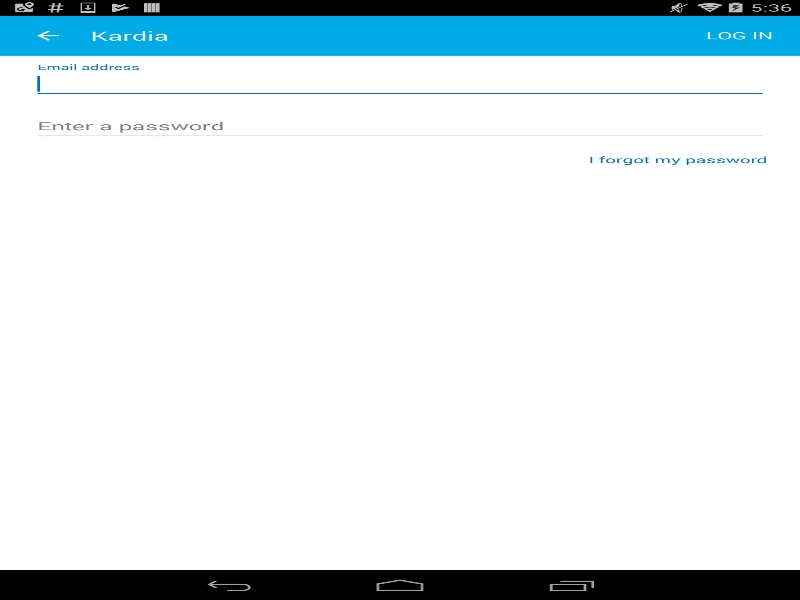Button: (10, 18, 85, 53)
Input: (32, 112, 768, 141), (32, 70, 768, 98)
